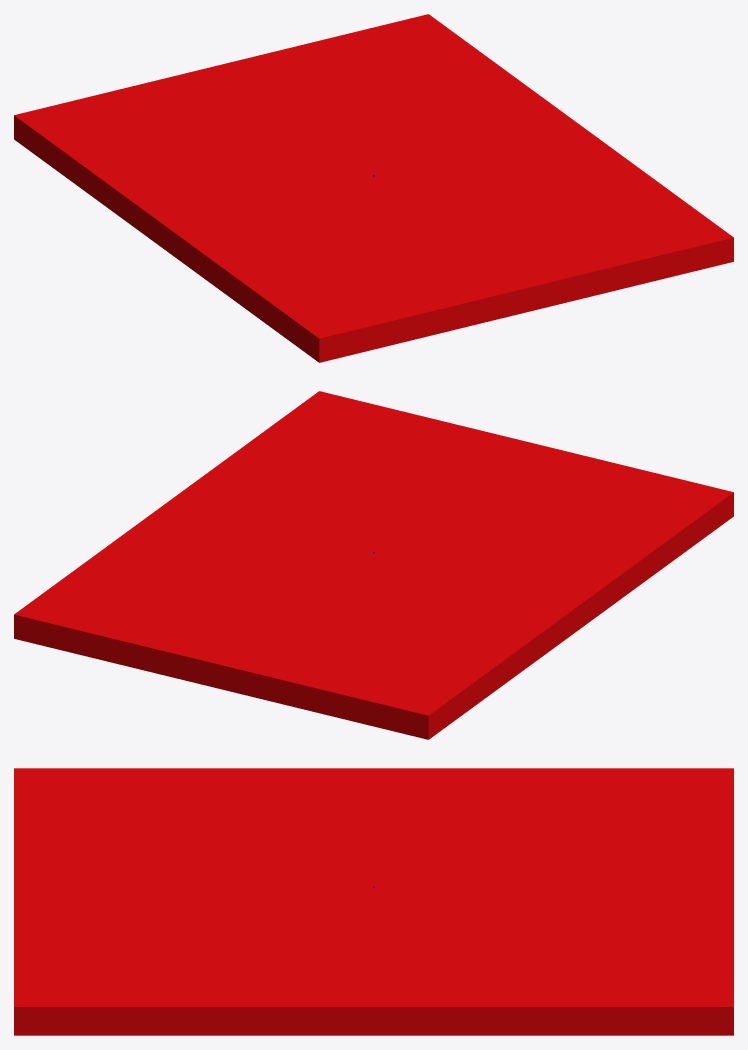
The model's file is tta.gltf.
The picture shows the model from 3 angles, top to bottom: view 1: azimuth 30°, elevation 25°; view 2: azimuth 150°, elevation 25°; view 3: azimuth 270°, elevation 25°; orthographic projection. The views are drawn at different scales.
Visible parts, largest first — view 1: Cube; view 2: Cube; view 3: Cube.
Part boxes in pixels (x1,y1,x2,y2): Cube: (14, 14, 733, 362); Cube: (14, 391, 733, 739); Cube: (14, 768, 733, 1035).
Size of the model in its own units: 690 by 40.43 by 881.
